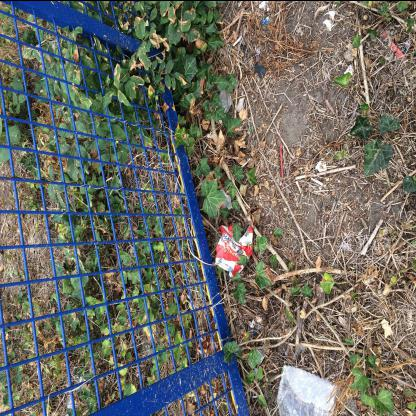plastik: (276, 364, 338, 416), (215, 224, 253, 276)
